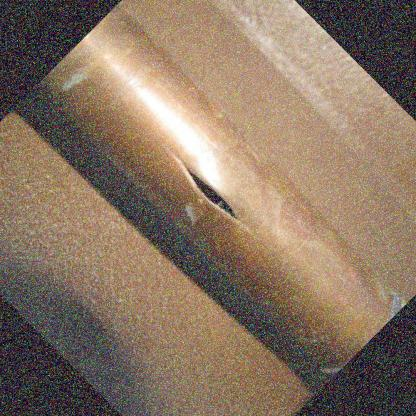burst: (165, 144, 264, 251)
